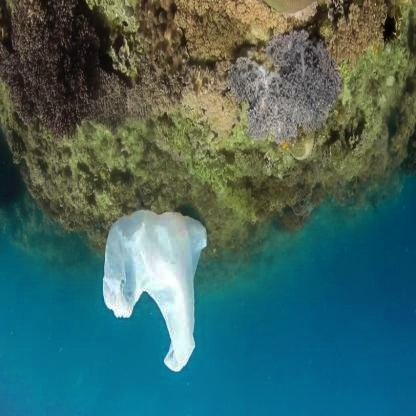pbag: (102, 209, 208, 373)
